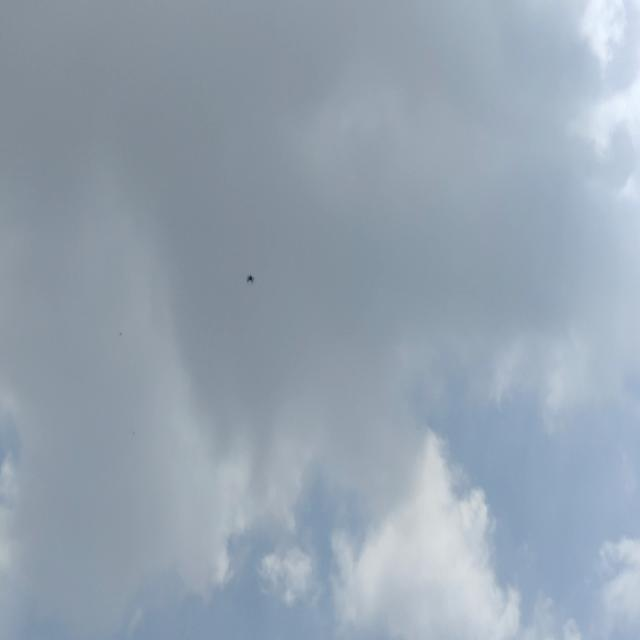drone: (248, 272, 254, 289)
